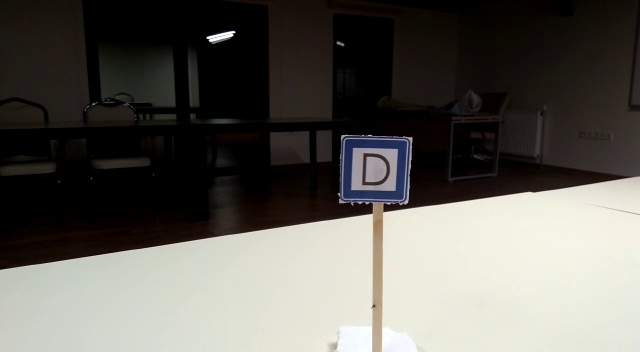durak: (339, 136, 411, 203)
